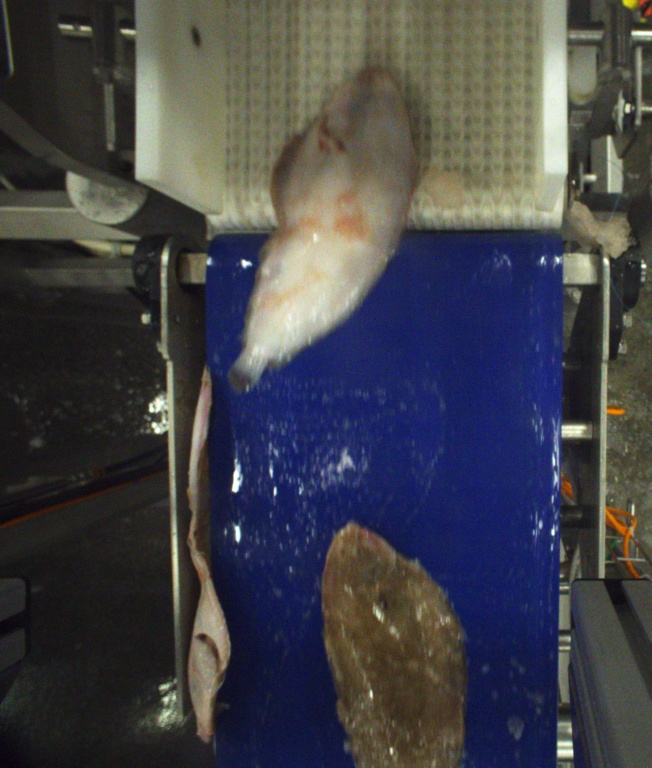SOL: (236, 64, 422, 388)
